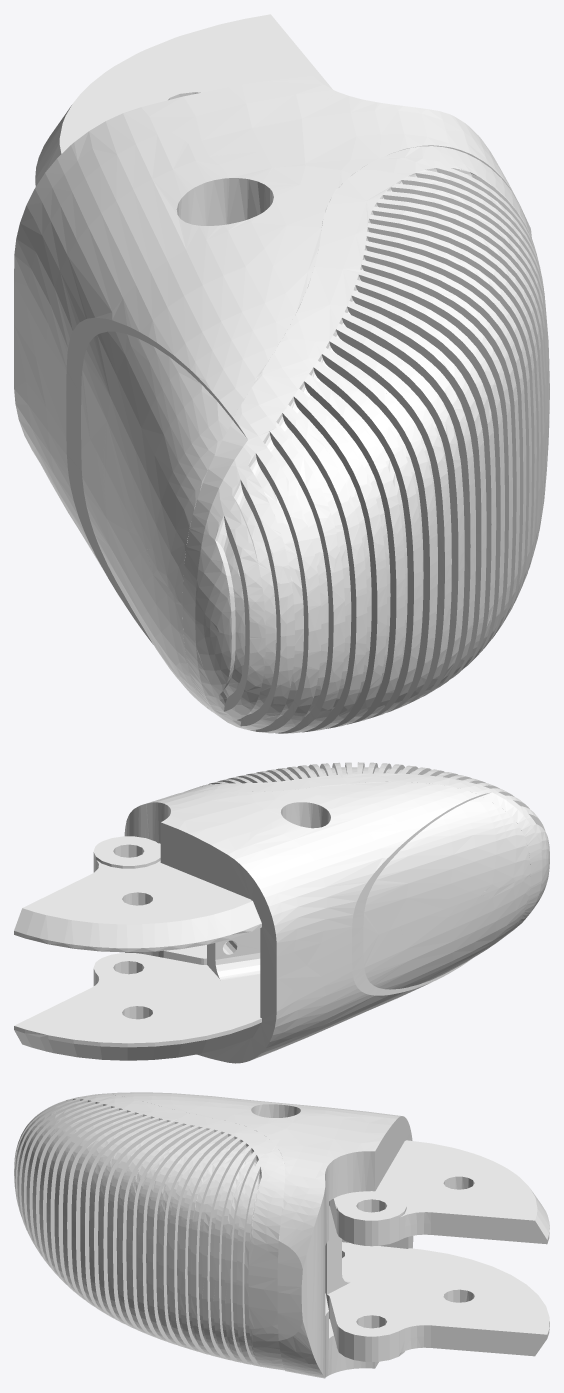
The model's file is lh_pinky_distal_vis.obj.
The picture shows the model from 3 angles, top to bottom: view 1: azimuth 30°, elevation 25°; view 2: azimuth 150°, elevation 25°; view 3: azimuth 270°, elevation 25°; orthographic projection. The views are drawn at different scales.
Visible parts, largest first — view 1: lh_pinky_distal; view 2: lh_pinky_distal; view 3: lh_pinky_distal.
Part boxes in pixels (left/top/right/bottom): lh_pinky_distal: left=14, top=14, right=549, bottom=733; lh_pinky_distal: left=14, top=762, right=549, bottom=1063; lh_pinky_distal: left=14, top=1092, right=549, bottom=1378.
Size of the model in its own units: 0.0217 by 0.0154 by 0.0344.
1 material, 1 textured.
